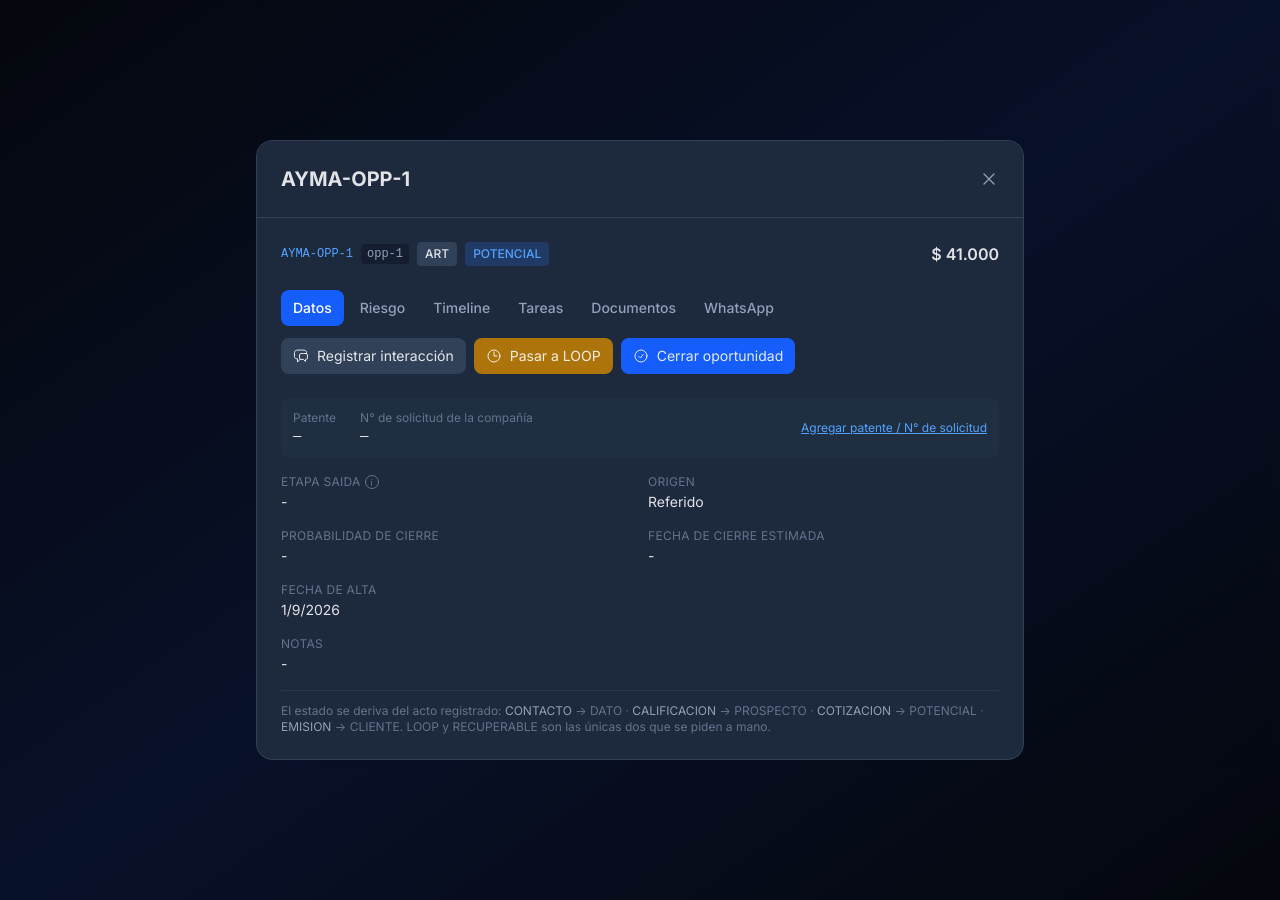
Scenario: Cierre de oportunidad — el resultado no tiene valor por defecto › abre sin ninguna opción marcada y con Confirmar deshabilitado
The width and height of the screenshot is (1280, 900).
Step 1. Click the button "Cerrar oportunidad" → (708, 356), box [621,338,795,374]
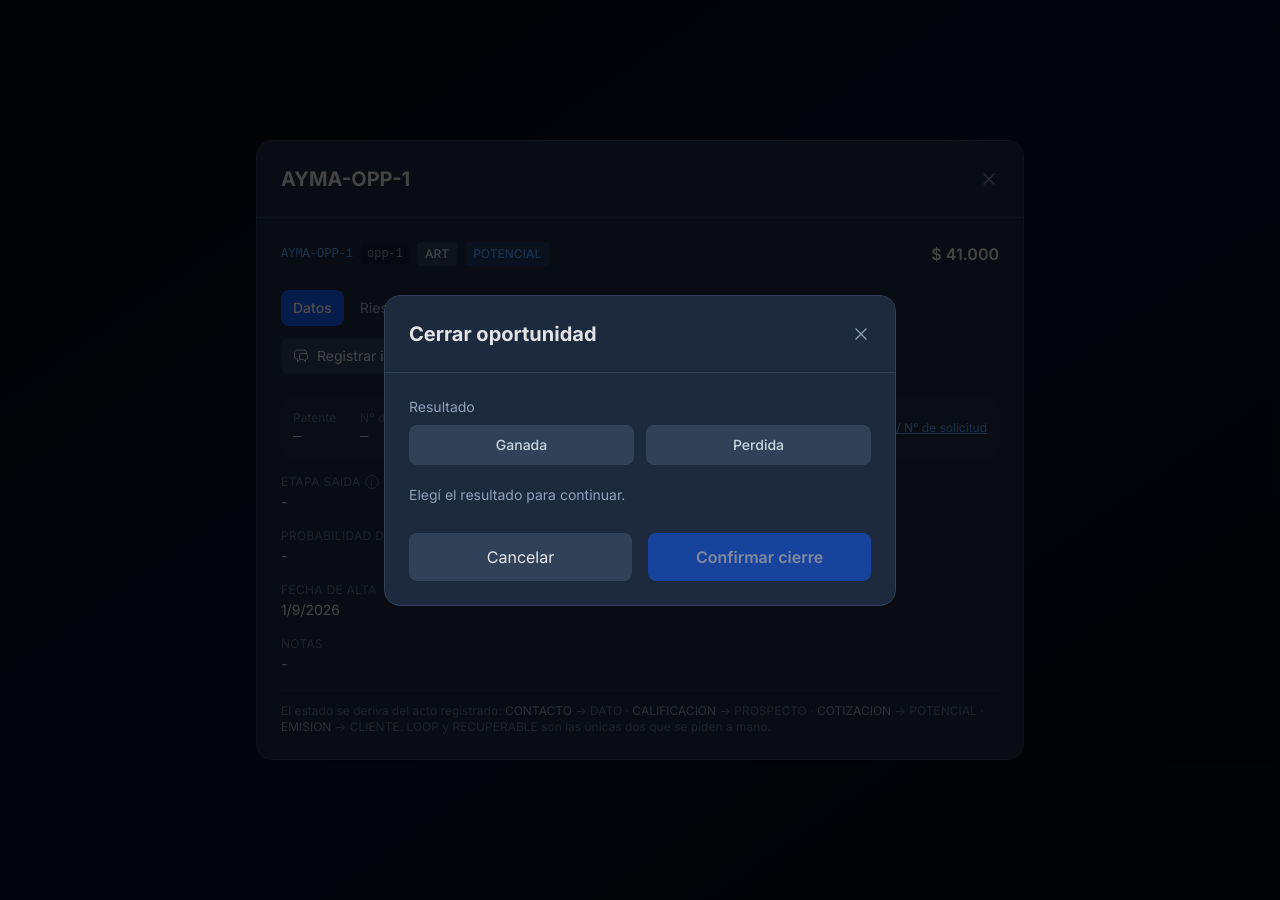
Expected: the button "Confirmar cierre" is disabled, [648,532,871,580]
